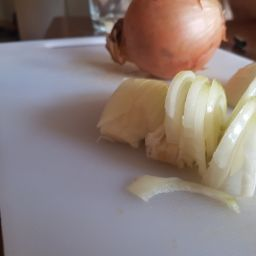Medium chopped onions: (106, 3, 237, 76), (111, 167, 245, 223), (99, 71, 170, 163), (219, 60, 256, 226), (168, 68, 228, 170)
